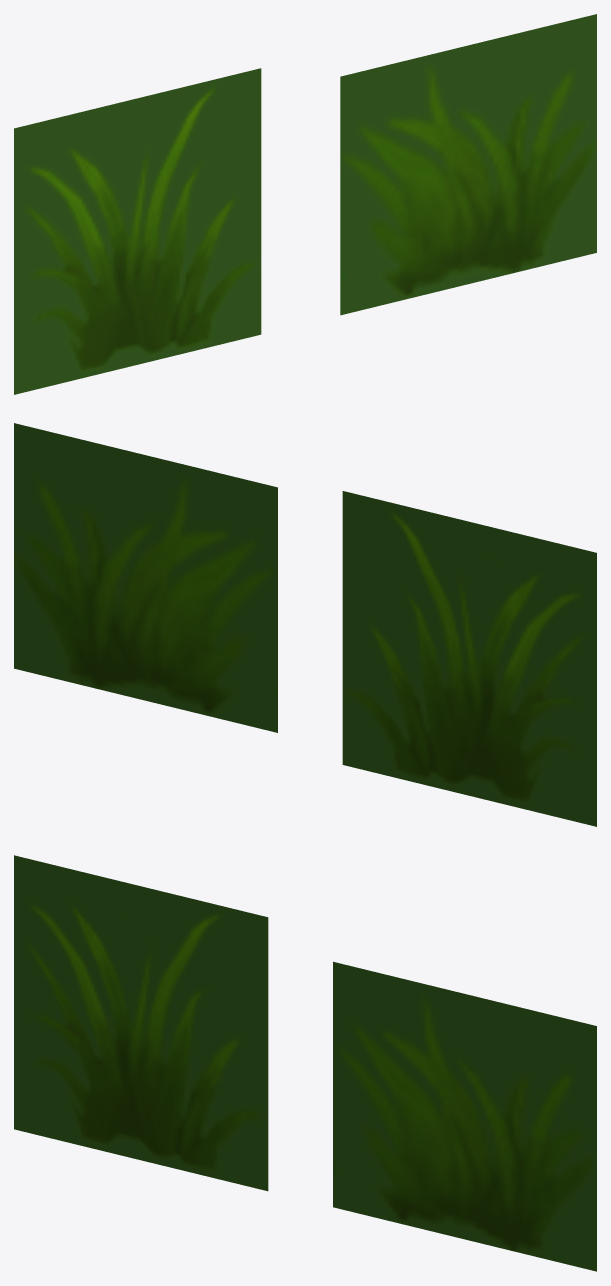
File: ZC_cao01.FBX
3 renders of one model, top to bottom at view 1: azimuth 30°, elevation 25°; view 2: azimuth 150°, elevation 25°; view 3: azimuth 330°, elevation 25°, orthographic. The views are drawn at different scales.
Parts seen in each view (by area): view 1: ZC_cao01_001, ZC_cao01_002; view 2: ZC_cao01_001, ZC_cao01_002; view 3: ZC_cao01_001, ZC_cao01_002.
Part boxes in pixels (box(x1,y1,x2,y2)): ZC_cao01_001: box(14, 68, 261, 394); ZC_cao01_002: box(340, 14, 596, 315); ZC_cao01_001: box(342, 491, 596, 826); ZC_cao01_002: box(14, 423, 277, 732); ZC_cao01_001: box(14, 855, 268, 1191); ZC_cao01_002: box(333, 961, 596, 1271).
Size of the model in its own units: 424 by 188 by 10.28.
1 material, 1 textured.
